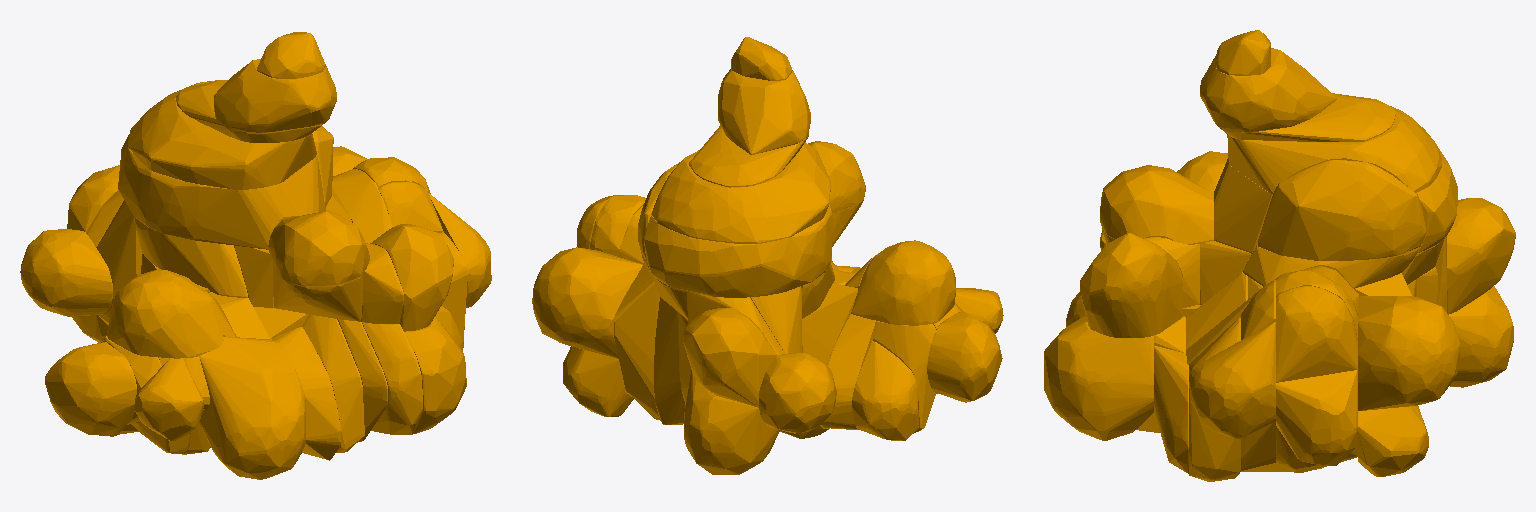
URDF robot description (063-a_marbles):
<?xml version="1.0" encoding="UTF-8"?>
<robot name="063-a_marbles">
	<link name="base">
		<collision>
			<geometry>
				<mesh filename="..\vhacd\063-a_marbles_vhacd.obj" scale="1.0 1.0 1.0"/>
			</geometry>
			<origin xyz="0 0 0"/>
			<contact_coefficients mu="0.24" />
		</collision>
		<visual>
			<geometry>
				<mesh filename="..\vhacd\063-a_marbles_vhacd.obj" scale="1.0 1.0 1.0"/>
			</geometry>
			<origin xyz="0 0 0"/>
		</visual>
		<inertial>
			<mass value="0"/>
			<inertia ixx="0.0" ixy="-0.0" ixz="-0.0" iyy="0.0" iyz="-0.0" izz="0.0" />
			<origin xyz="-0.0027500211926518342 0.02916533357513936 0.02215392406852005"/>
		</inertial>
	</link>
</robot>

--- Render facts (derived) ---
The picture shows the robot from 3 angles, left to right: view 1: azimuth 30°, elevation 25°; view 2: azimuth 150°, elevation 25°; view 3: azimuth 270°, elevation 25°; orthographic projection.
Model 063-a_marbles with 1 links and 0 joints (none), rooted at base, posed all joints at 0.
Links seen in each view (by area): view 1: base; view 2: base; view 3: base.
Boxes of the visible links, left/top/right/bottom form: base: left=20, top=32, right=491, bottom=479; base: left=532, top=37, right=1003, bottom=474; base: left=1044, top=30, right=1515, bottom=481.
Bounding box of the posed robot: 0.087 × 0.0776 × 0.0719 m (x, y, z).
1 mesh visuals loaded from 1 distinct referenced files (1 OBJ).